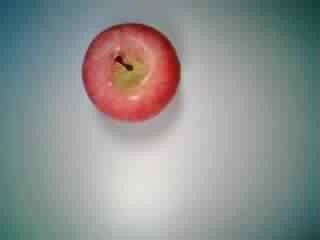apple: (79, 22, 185, 126)
